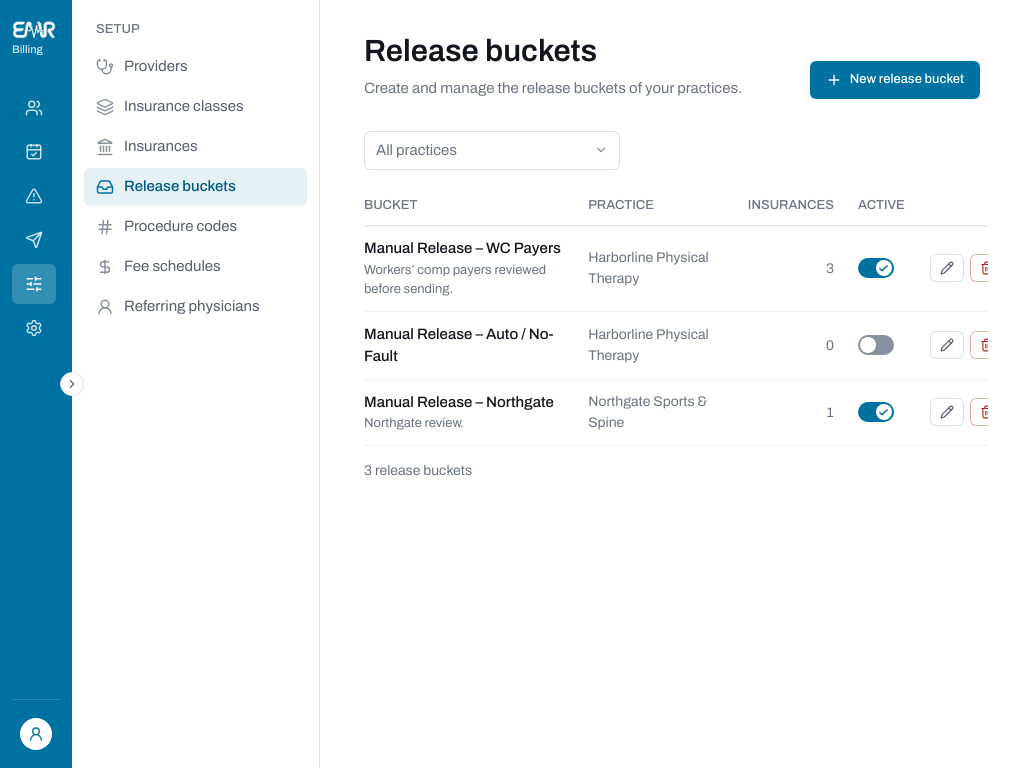
Setup → Release buckets › refuses a bucket without a practice or a name
Click the button "New release bucket": (895, 80) left=810, top=61, right=980, bottom=99
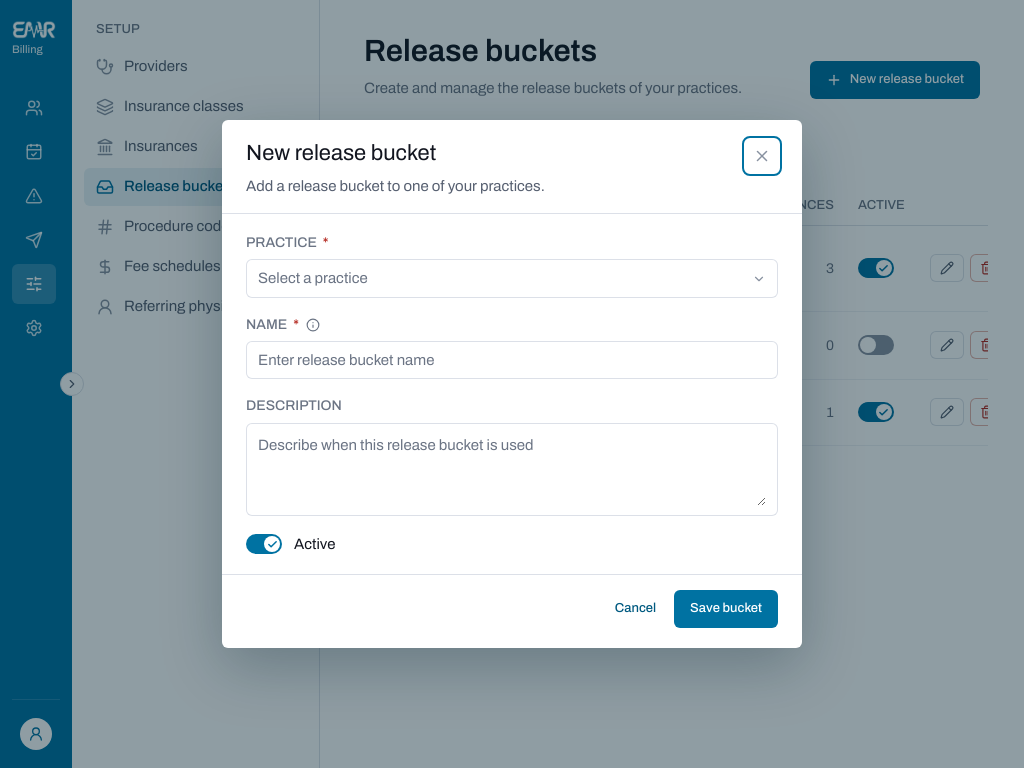
Click the button "Save bucket": (726, 609) left=674, top=590, right=778, bottom=628
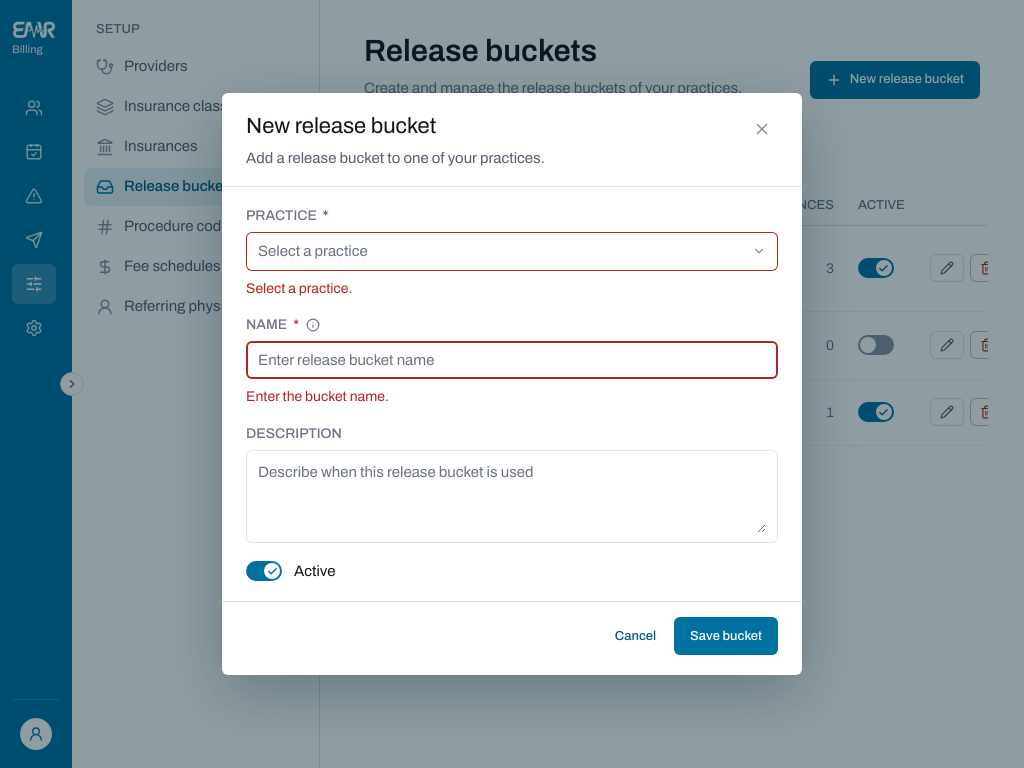
Expected: the text "Select a practice." is shown, left=246, top=281, right=352, bottom=296
Expected: the text "Enter the bucket name." is shown, left=246, top=389, right=389, bottom=404
